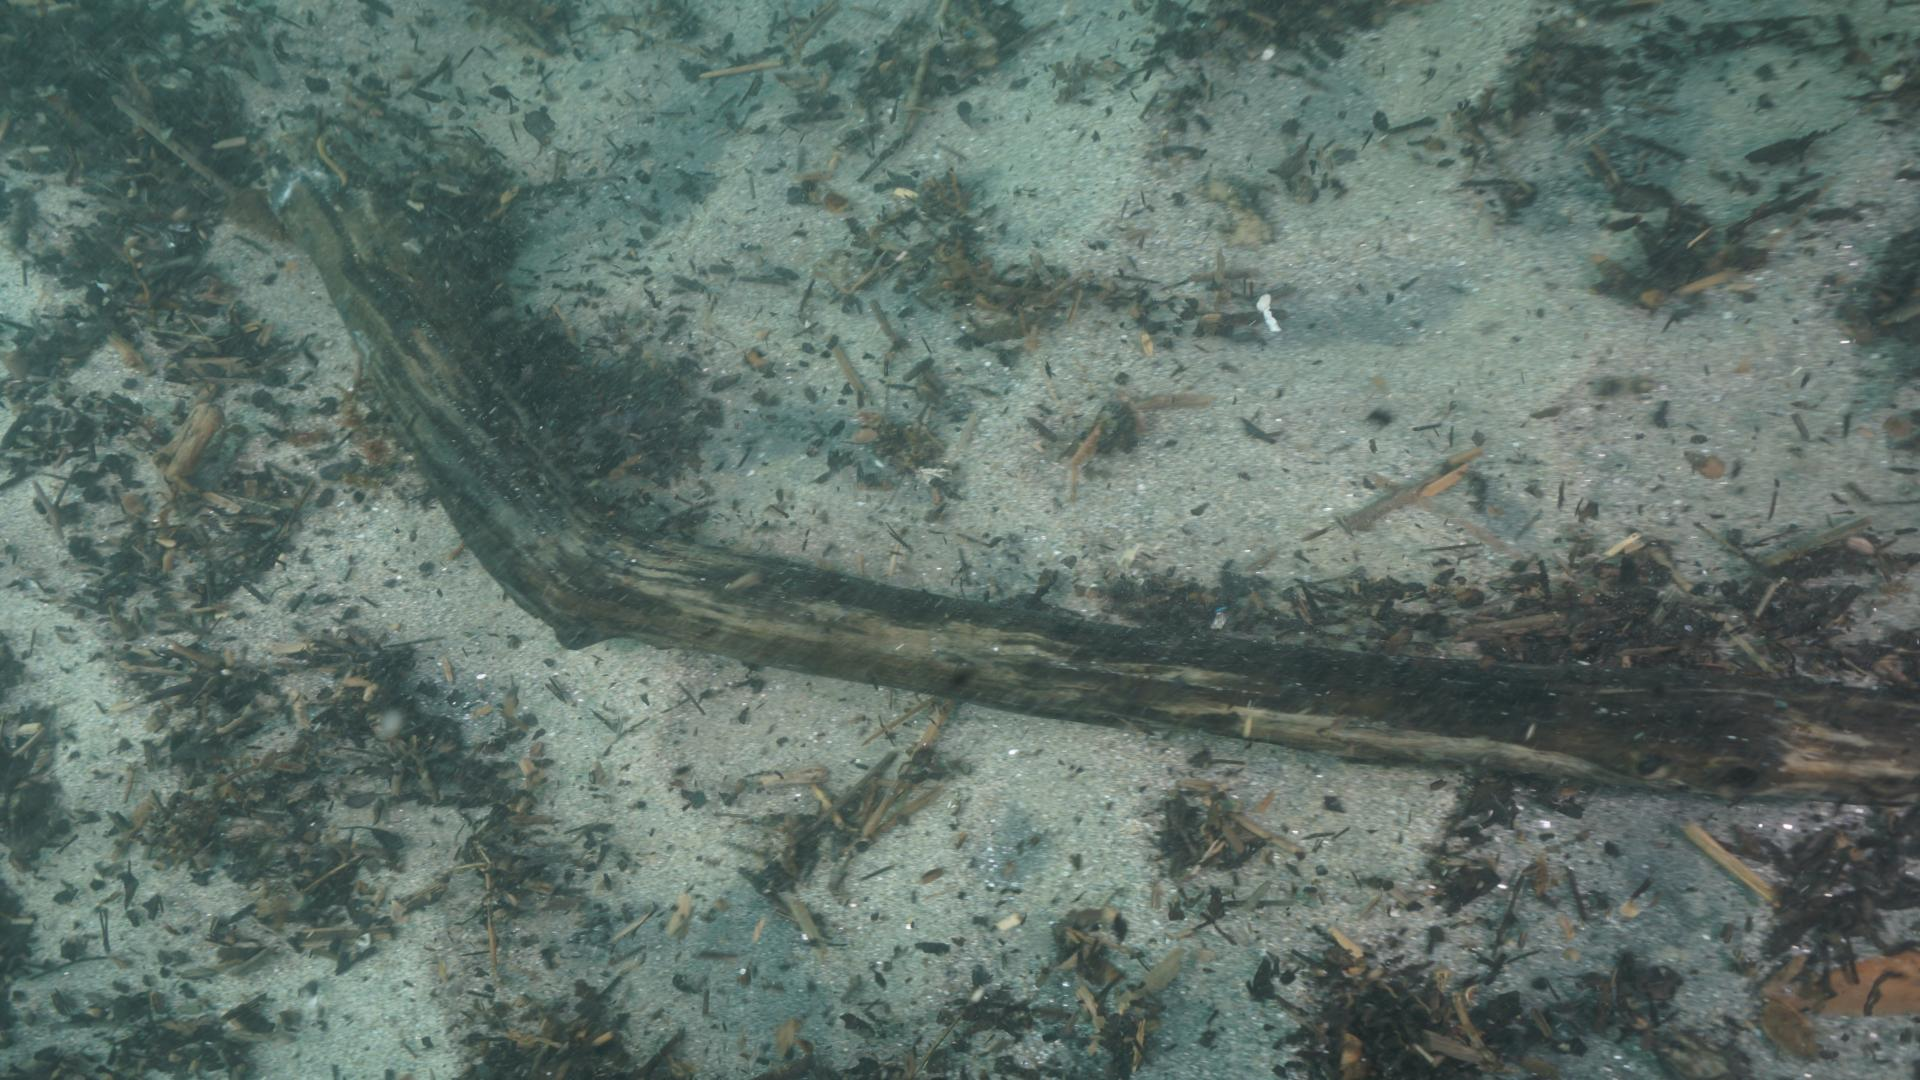wood: (265, 164, 1920, 810)
